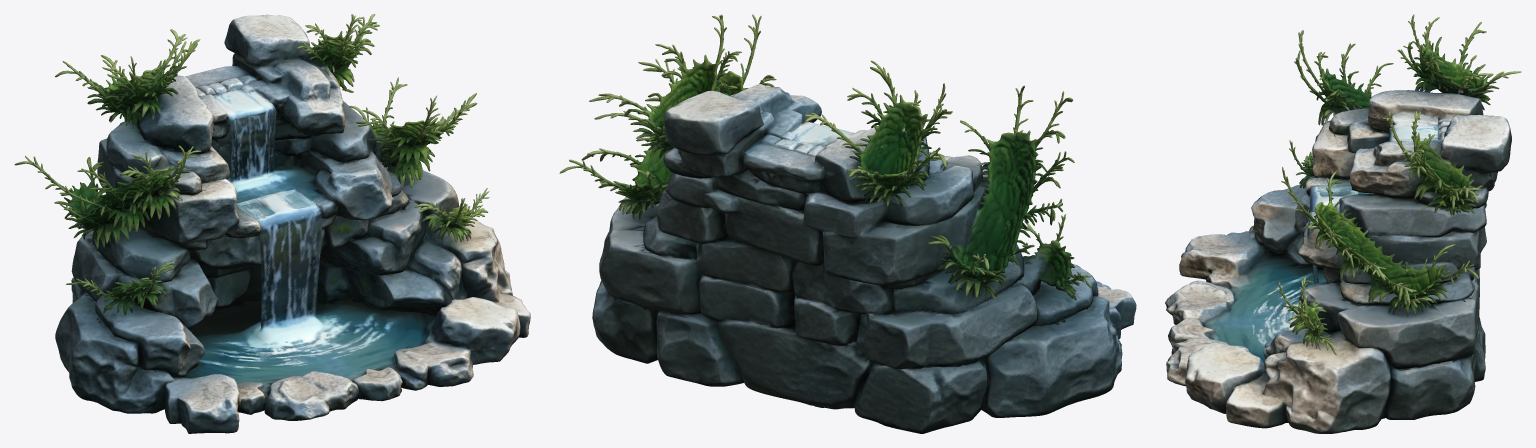
The model's file is waterfall3.glb.
3 views of the same model, side by side, from view 1: azimuth 30°, elevation 25°; view 2: azimuth 150°, elevation 25°; view 3: azimuth 270°, elevation 25° (orthographic). The views are drawn at different scales.
Parts seen in each view (by area): view 1: tripo_node_c3ad8bc5-b5f8-4175-b77a-3b97995f363b; view 2: tripo_node_c3ad8bc5-b5f8-4175-b77a-3b97995f363b; view 3: tripo_node_c3ad8bc5-b5f8-4175-b77a-3b97995f363b.
Part boxes in pixels (x1,y1,x2,y2): tripo_node_c3ad8bc5-b5f8-4175-b77a-3b97995f363b: [14, 14, 530, 433]; tripo_node_c3ad8bc5-b5f8-4175-b77a-3b97995f363b: [559, 14, 1136, 433]; tripo_node_c3ad8bc5-b5f8-4175-b77a-3b97995f363b: [1165, 14, 1521, 433].
Size of the model in its own units: 0.97 by 0.6089 by 0.7194.
1 material, 1 textured.
